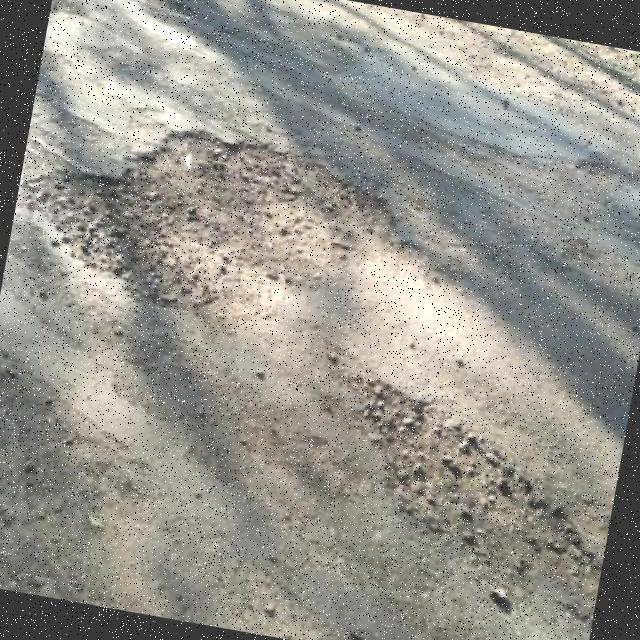Pothole: (23, 132, 423, 316), (335, 370, 602, 640)
